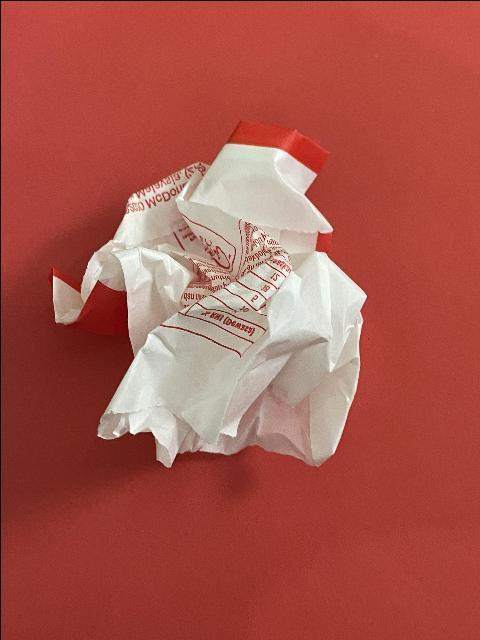paperbag: (48, 112, 368, 470)
